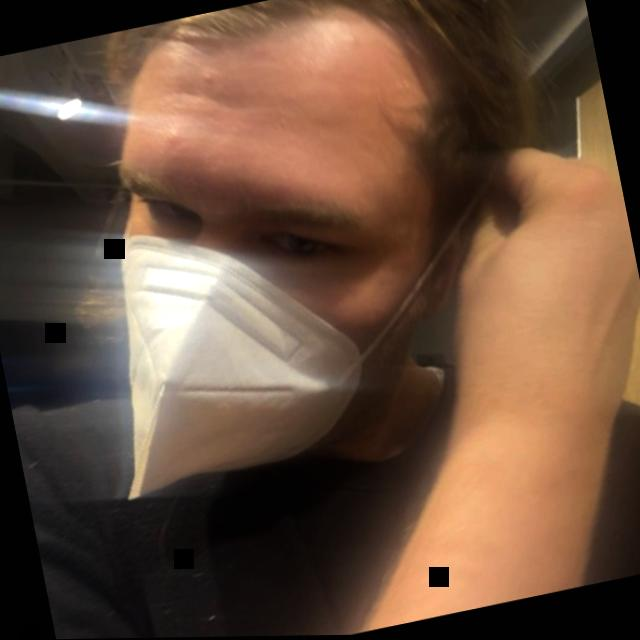Mask: (21, 0, 559, 475)
